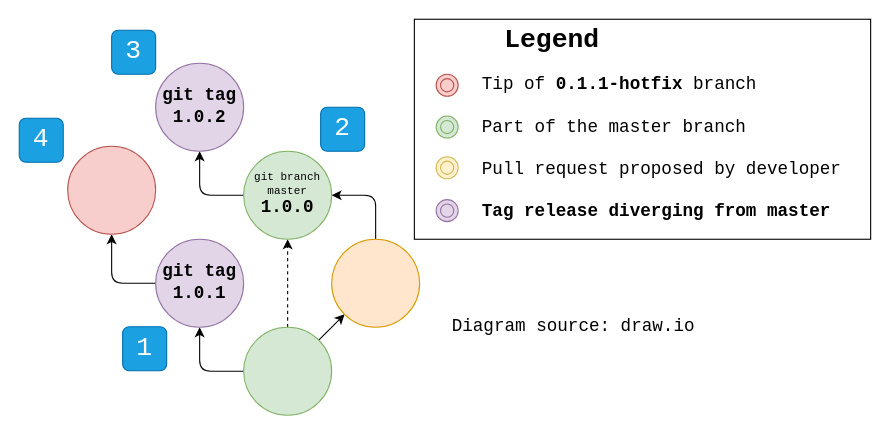
This 890x435 diagram has some shape labels left out. The shapes that lost their labels are listed below. From the top down, each one's centre as x and y in pixels, then its label:
At (111,189): "git branch 0.1.1-hotfix version: 1.0.1".
At (375,282): "pull request dev changes".
At (287,370): "merge commit 1.0.0".
